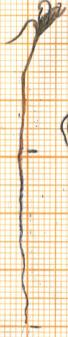flower: (1, 0, 68, 47)
root: (10, 148, 33, 323)
stem: (18, 36, 42, 152)
